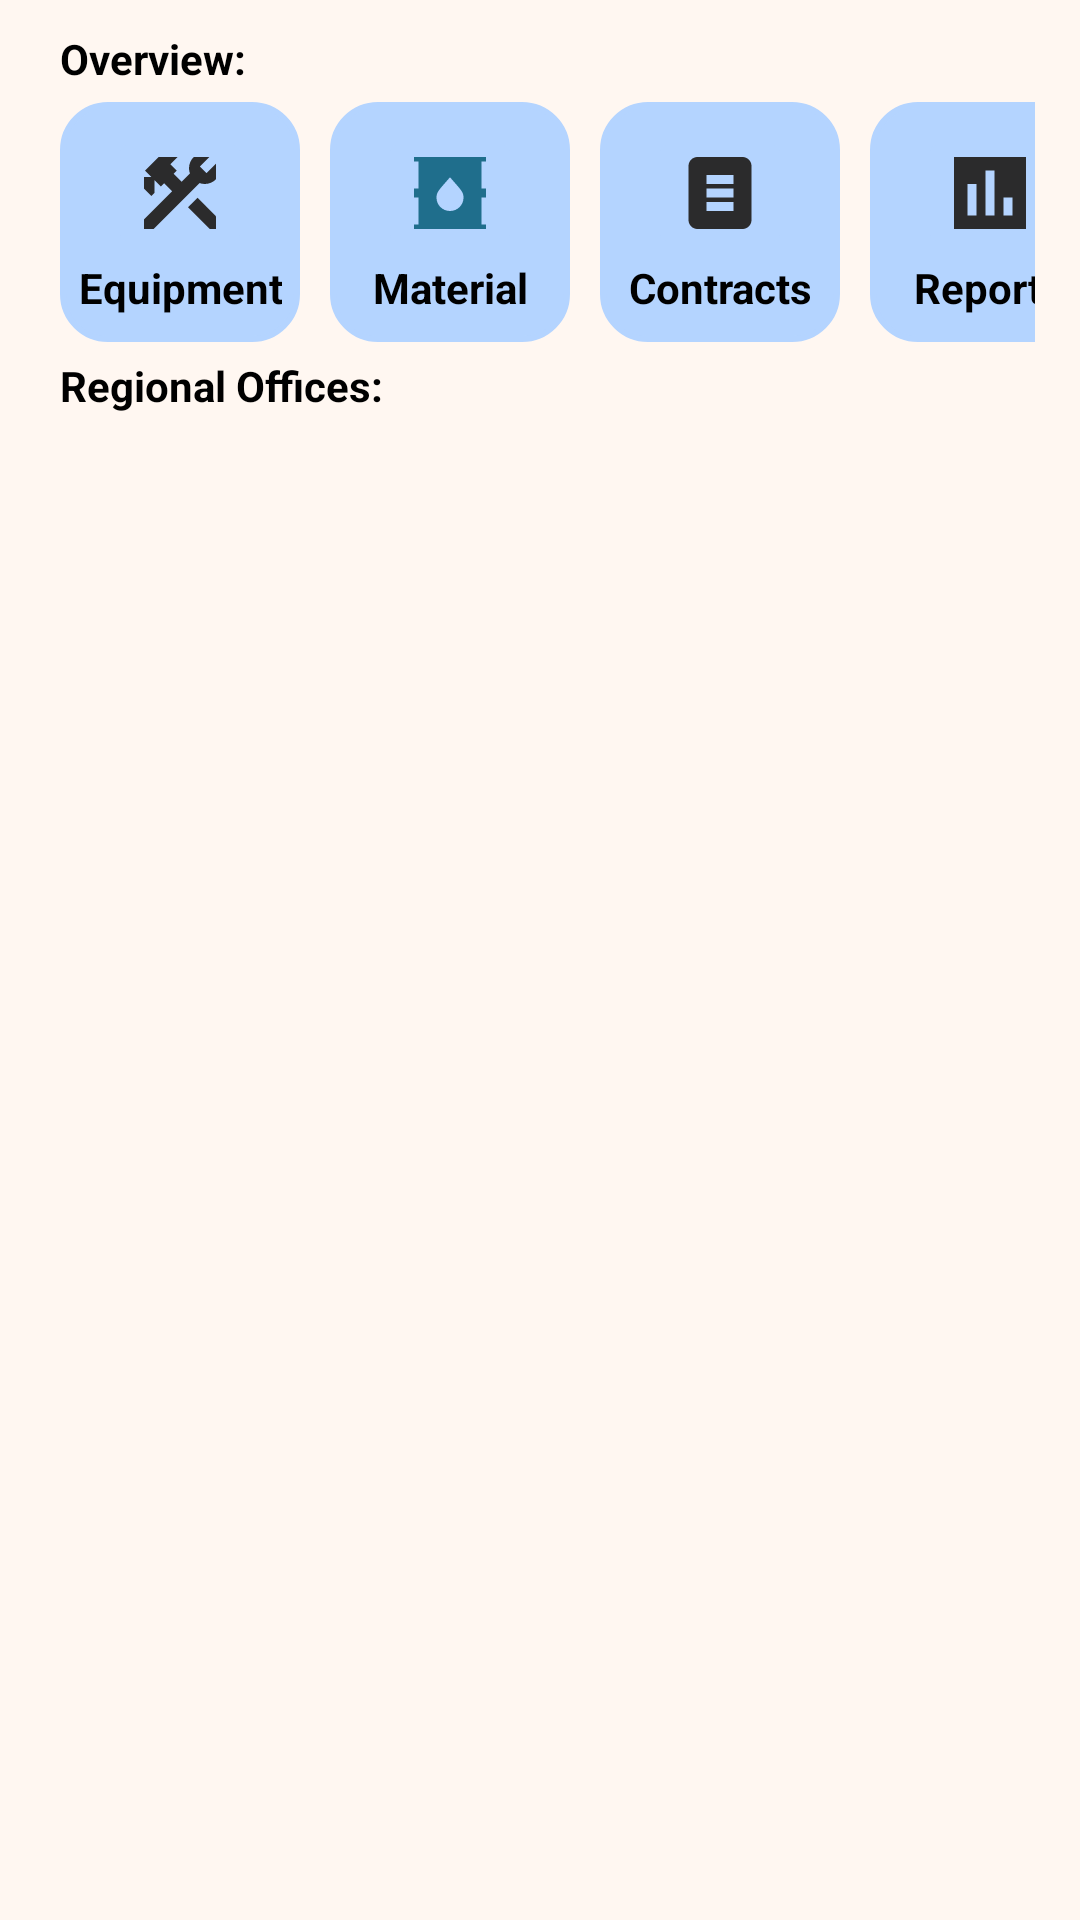

Where to tap for icons on this 1080 x 1920 app screen, as [x,y]:
construction: [180,193]
oil barrel: [450,193]
